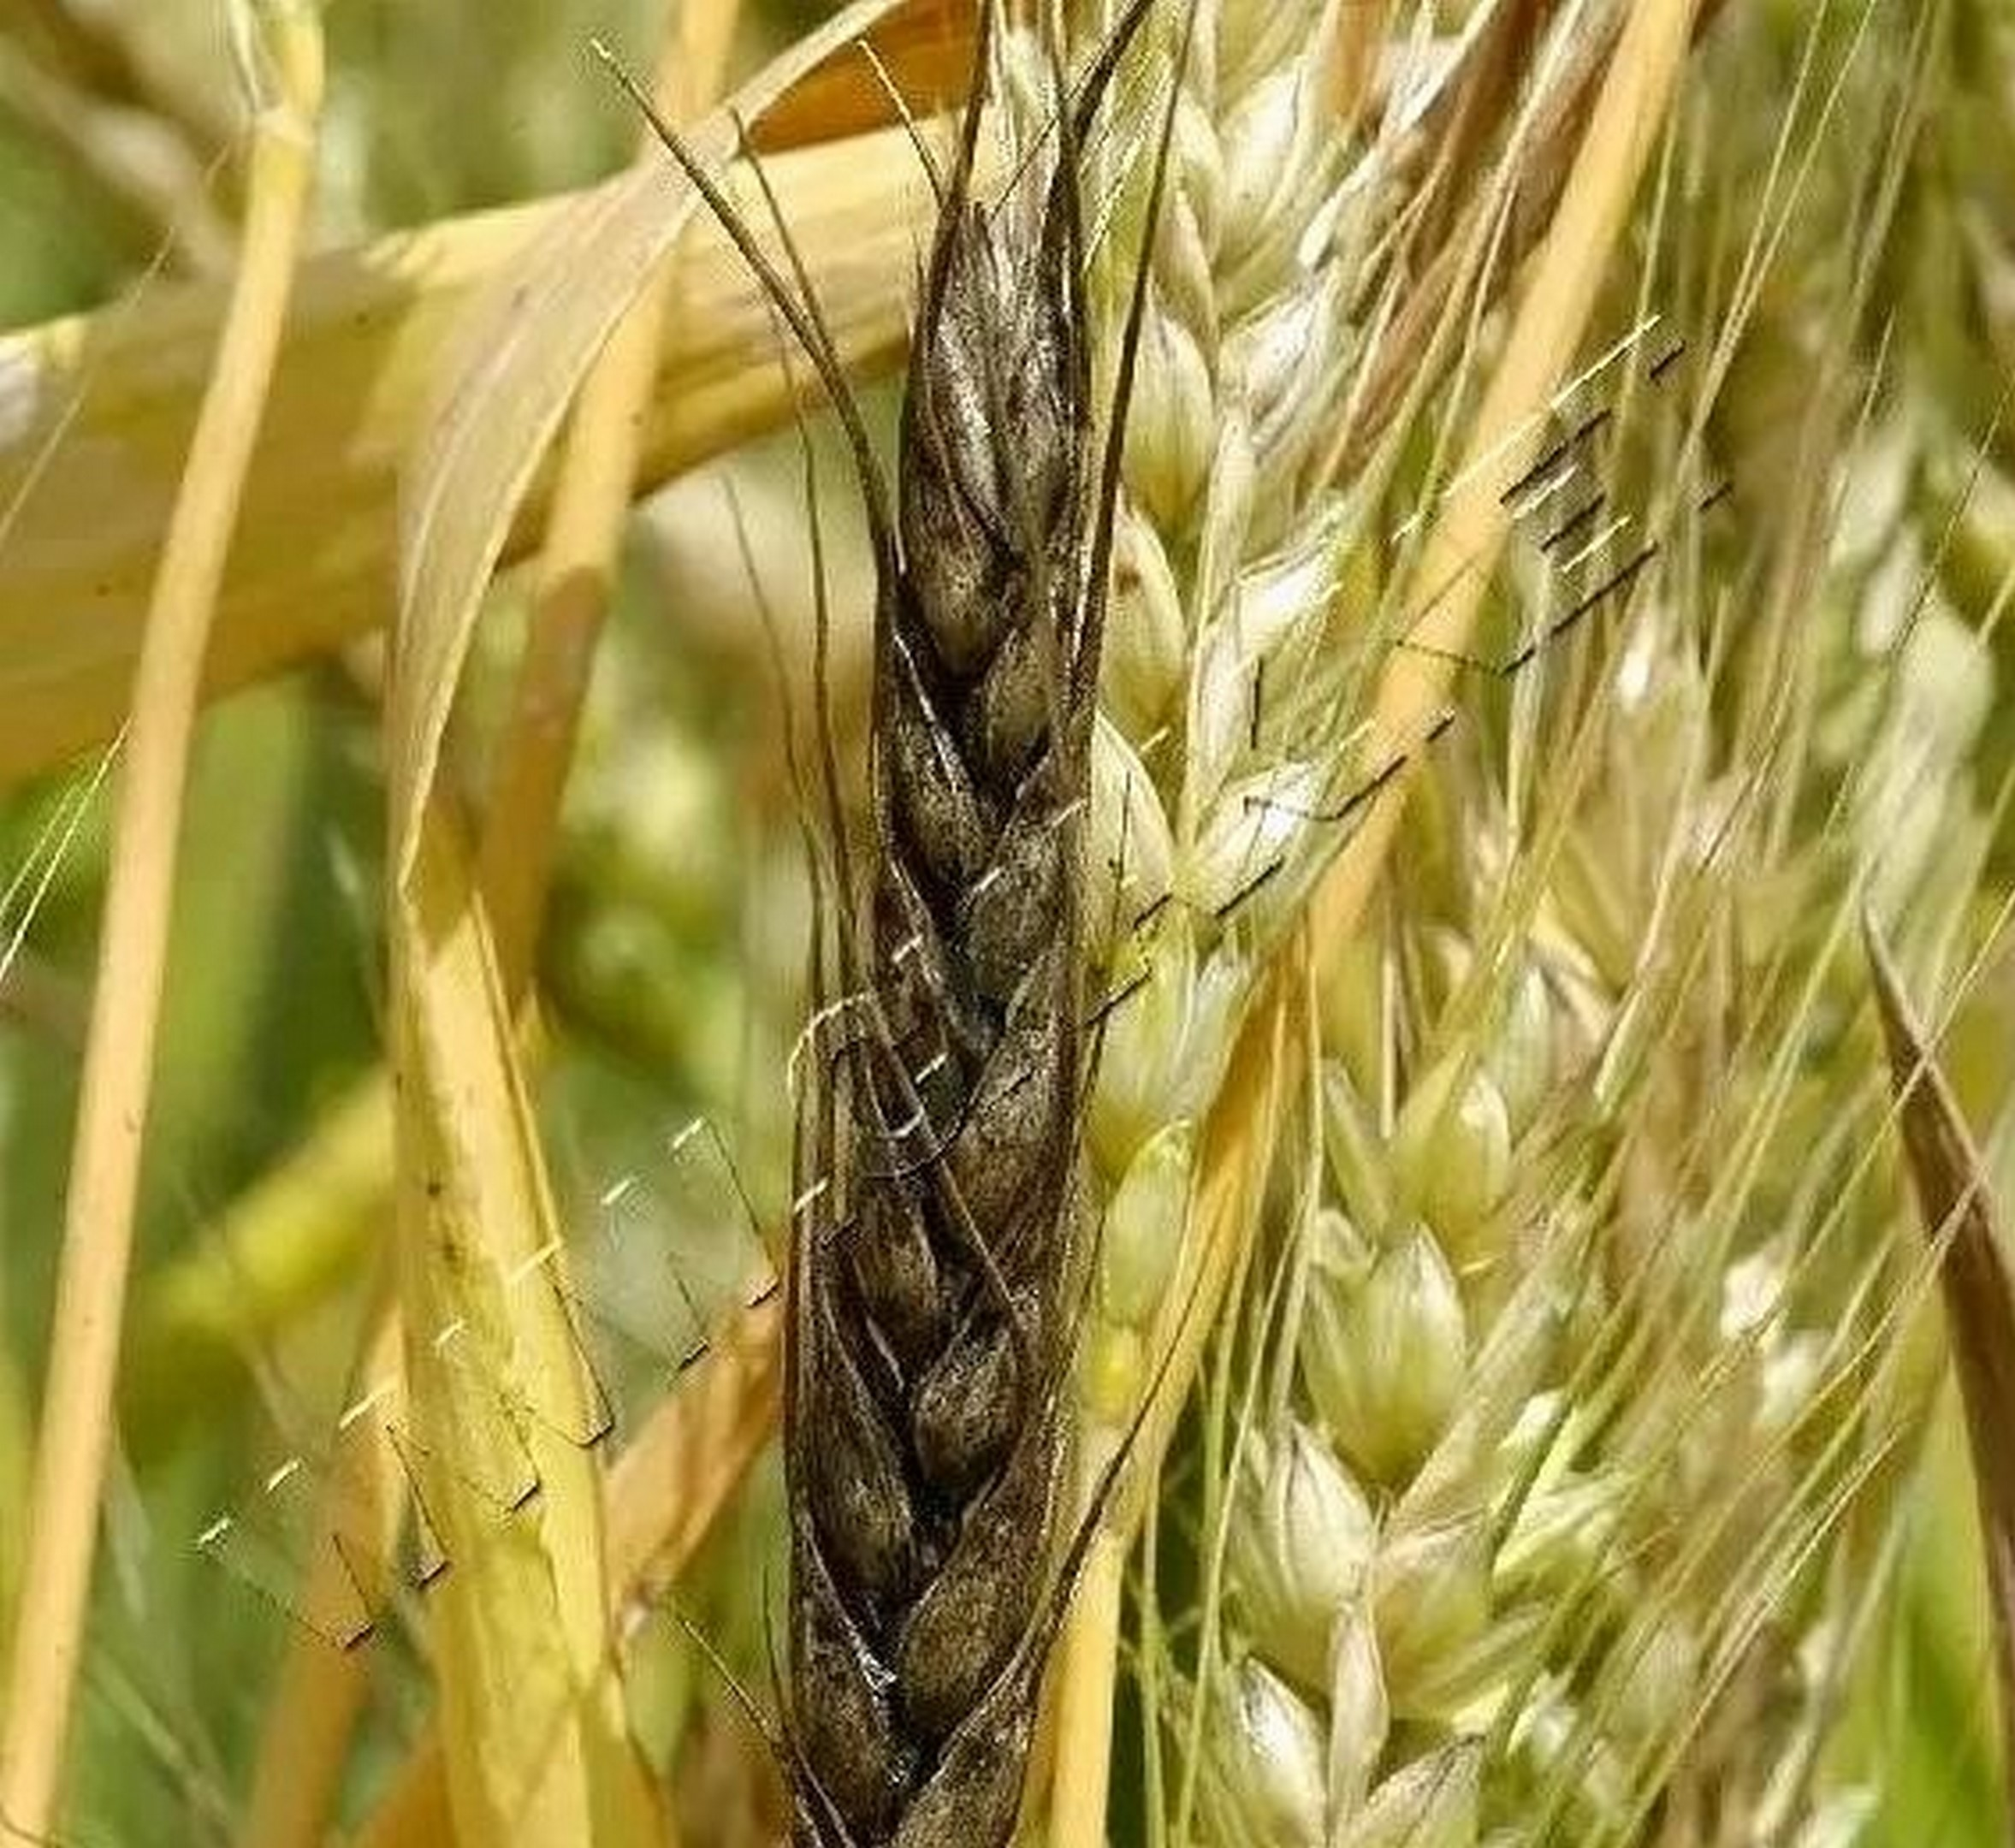Wheat Loose Smut: (751, 263, 1155, 1757)
